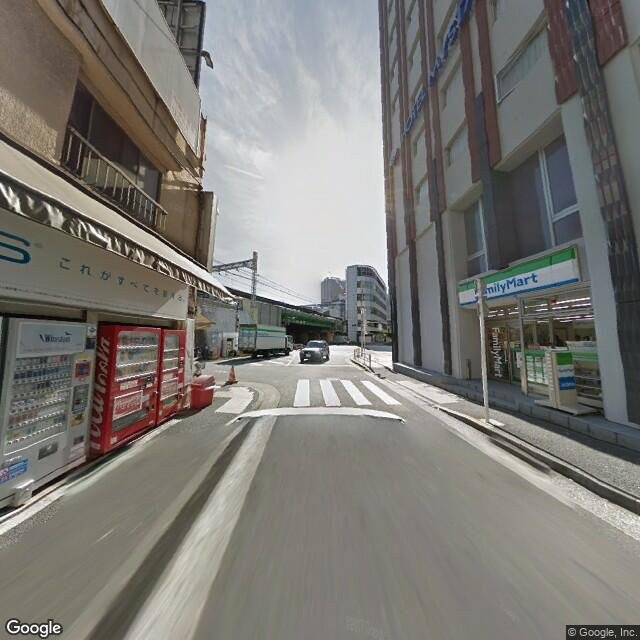family_mart: (457, 241, 583, 304), (553, 347, 573, 395)
